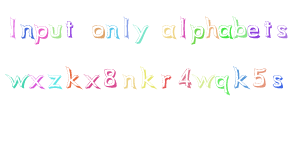4: (173, 58, 195, 92)
5: (249, 60, 270, 95)
8: (100, 61, 119, 90)
I: (4, 12, 24, 40)
a: (159, 20, 178, 43), (216, 19, 233, 42)
b: (231, 11, 246, 41)
e: (246, 19, 261, 42)
h: (203, 13, 219, 43)
k: (137, 59, 159, 95), (62, 63, 83, 95), (231, 61, 250, 92)
l: (119, 13, 131, 41), (176, 14, 188, 41)
n: (119, 72, 139, 93), (18, 20, 36, 42), (104, 20, 121, 42)
o: (87, 21, 107, 41)
p: (188, 20, 205, 46), (33, 21, 50, 45)
q: (213, 68, 231, 99)
r: (158, 70, 175, 96)
s: (269, 70, 288, 92), (274, 19, 290, 41)
t: (259, 12, 273, 42), (62, 14, 76, 41)
u: (50, 22, 62, 41)
w: (2, 69, 29, 90), (193, 72, 214, 90)
x: (83, 70, 101, 96), (28, 72, 46, 92)
y: (131, 19, 150, 46)
z: (46, 71, 62, 93)
